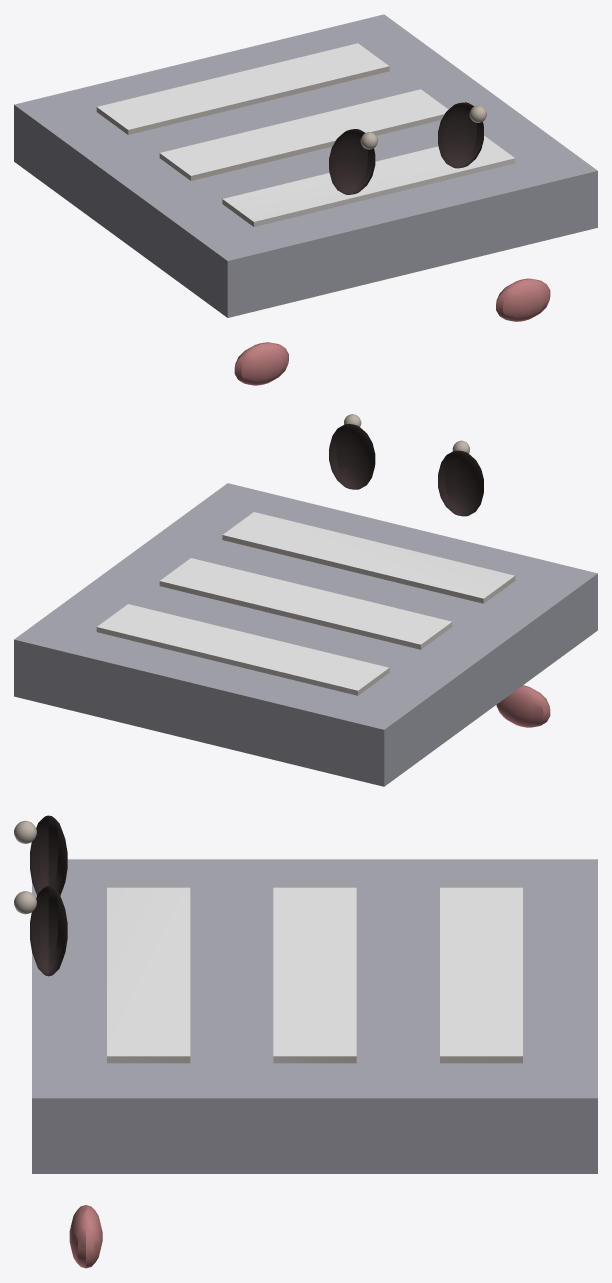
The picture shows the model from 3 angles, top to bottom: view 1: azimuth 30°, elevation 25°; view 2: azimuth 150°, elevation 25°; view 3: azimuth 270°, elevation 25°; orthographic projection. The views are drawn at different scales.
Parts seen in each view (by area): view 1: pet_p1035b8c6; view 2: pet_p1035b8c6; view 3: pet_p1035b8c6.
Boxes of the visible parts, x1=… form: pet_p1035b8c6: x1=14, y1=14, x2=597, y2=385; pet_p1035b8c6: x1=14, y1=414, x2=597, y2=786; pet_p1035b8c6: x1=14, y1=815, x2=597, y2=1268.
Size of the model in its own units: 0.34 by 0.217 by 0.3509.
